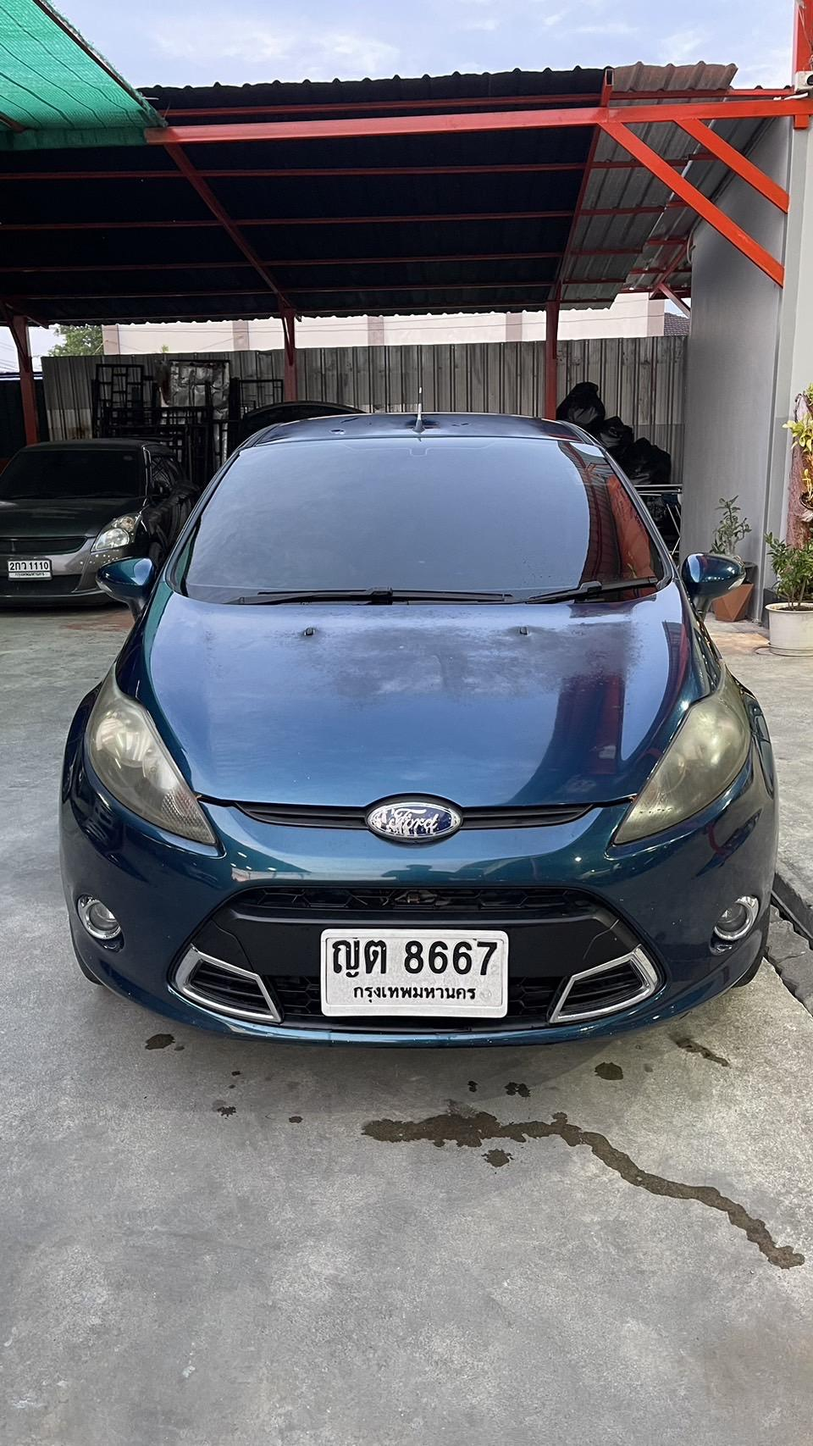license-plate: (318, 919, 515, 1025)
